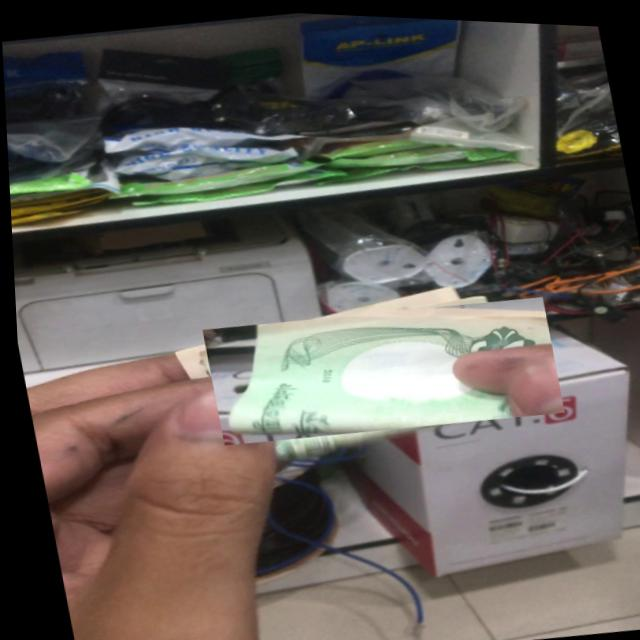Taka: (197, 280, 563, 456)
